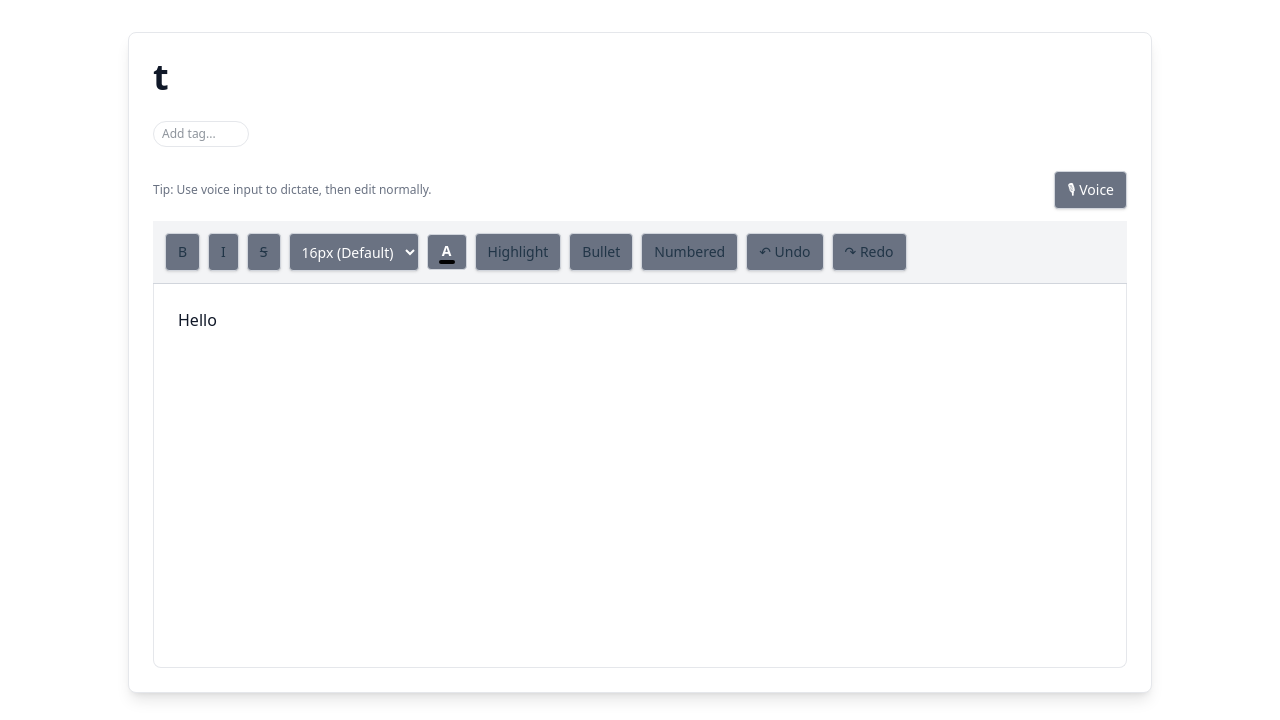
Test case: NoteEditor voice input › shows an error when browser does not support SpeechRecognition
Click the button "🎙 Voice" at coordinates (1091, 190), box 1054,171 -> 1127,209
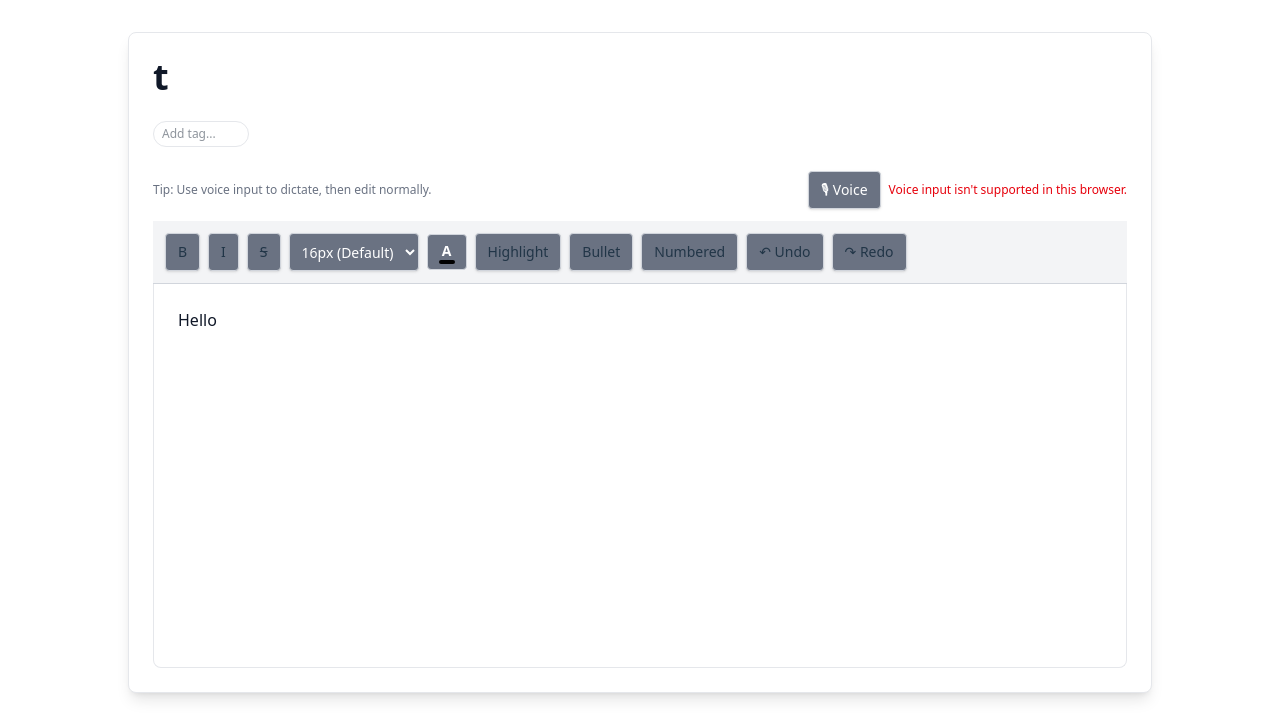
Expected: the text "Voice input isn't supported in this browser." is shown, 889,182 -> 1127,198
